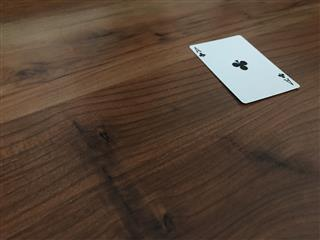AceOfClubs: (188, 34, 300, 104)
